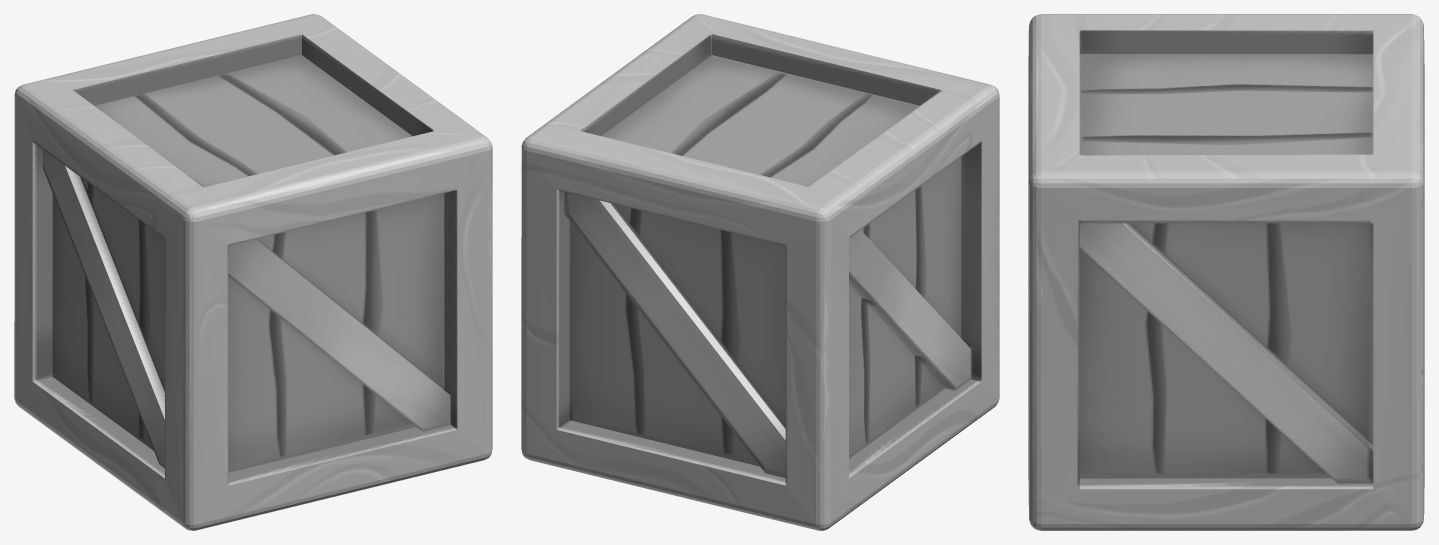
The model's file is Wood_White_New.fbx.
3 views of the same model, side by side, from view 1: azimuth 30°, elevation 25°; view 2: azimuth 150°, elevation 25°; view 3: azimuth 270°, elevation 25° (orthographic). The views are drawn at different scales.
Parts seen in each view (by area): view 1: kocka_plava1__2__1_32; view 2: kocka_plava1__2__1_32; view 3: kocka_plava1__2__1_32.
Part boxes in pixels (bbox=[...]): kocka_plava1__2__1_32: bbox=[14, 14, 492, 530]; kocka_plava1__2__1_32: bbox=[521, 14, 999, 530]; kocka_plava1__2__1_32: bbox=[1028, 14, 1424, 530].
Size of the model in its own units: 107 by 107 by 107.
1 material, 1 textured.
